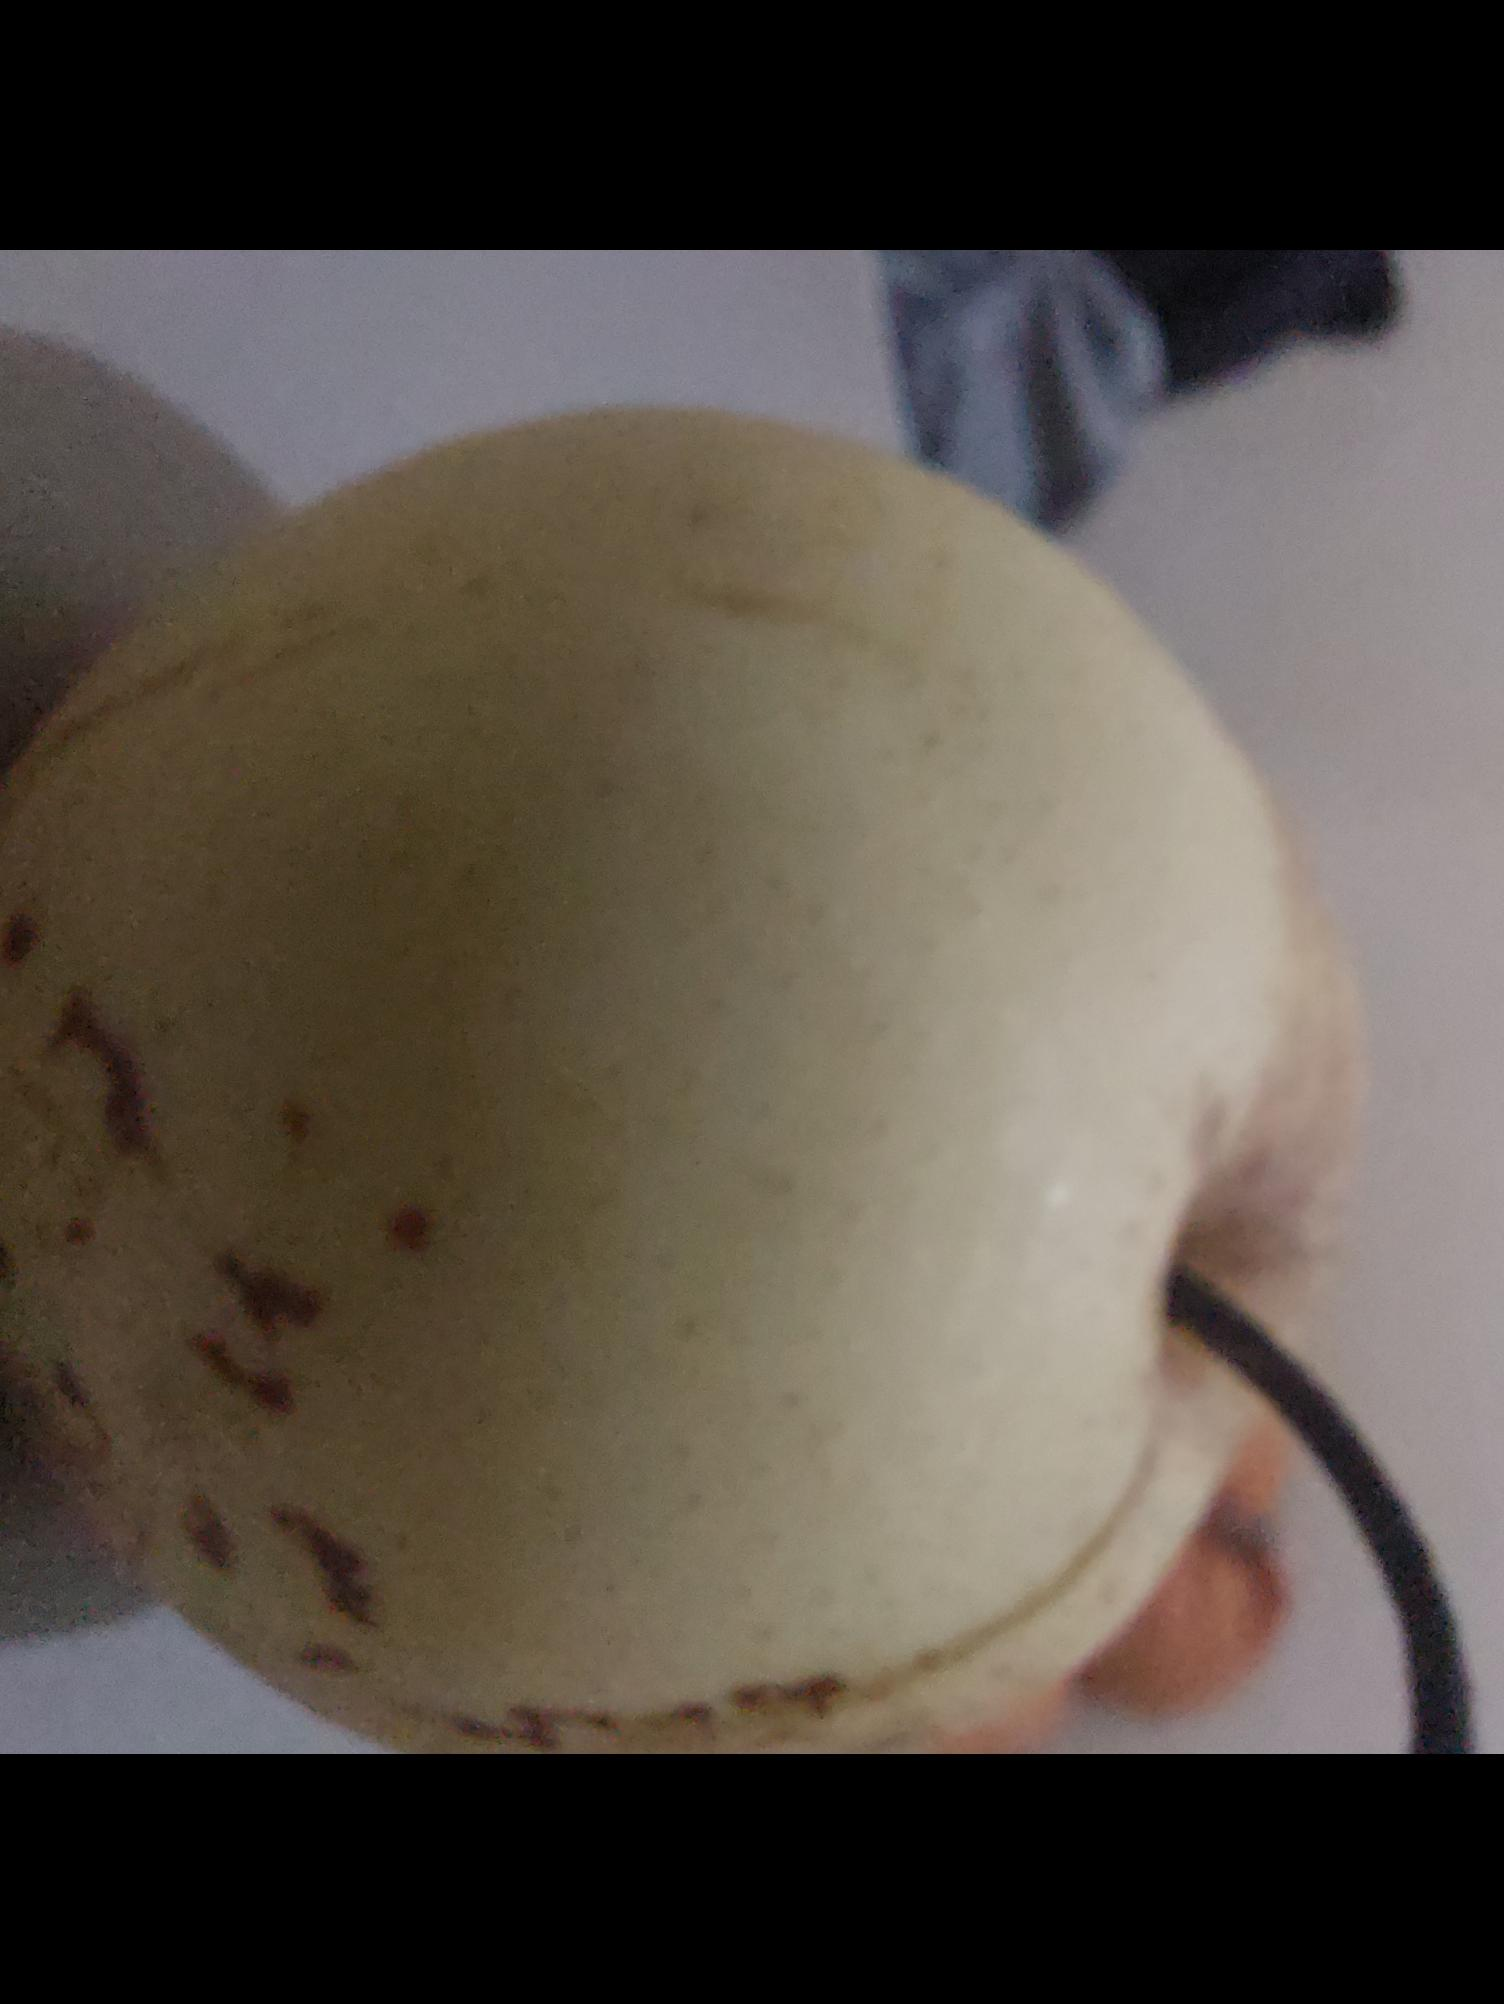Bad Pear: (0, 392, 1362, 1754)
